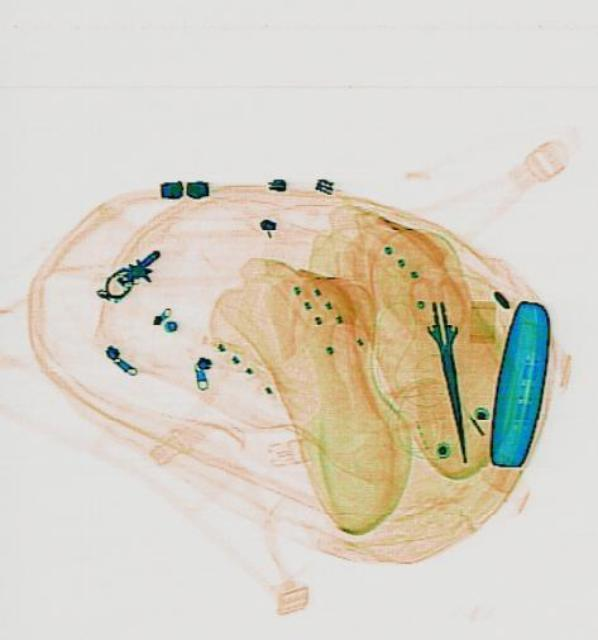Knife: (420, 298, 479, 464)
